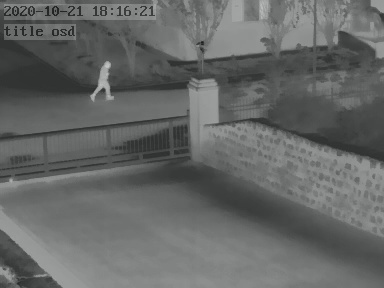person: (90, 59, 115, 102)
